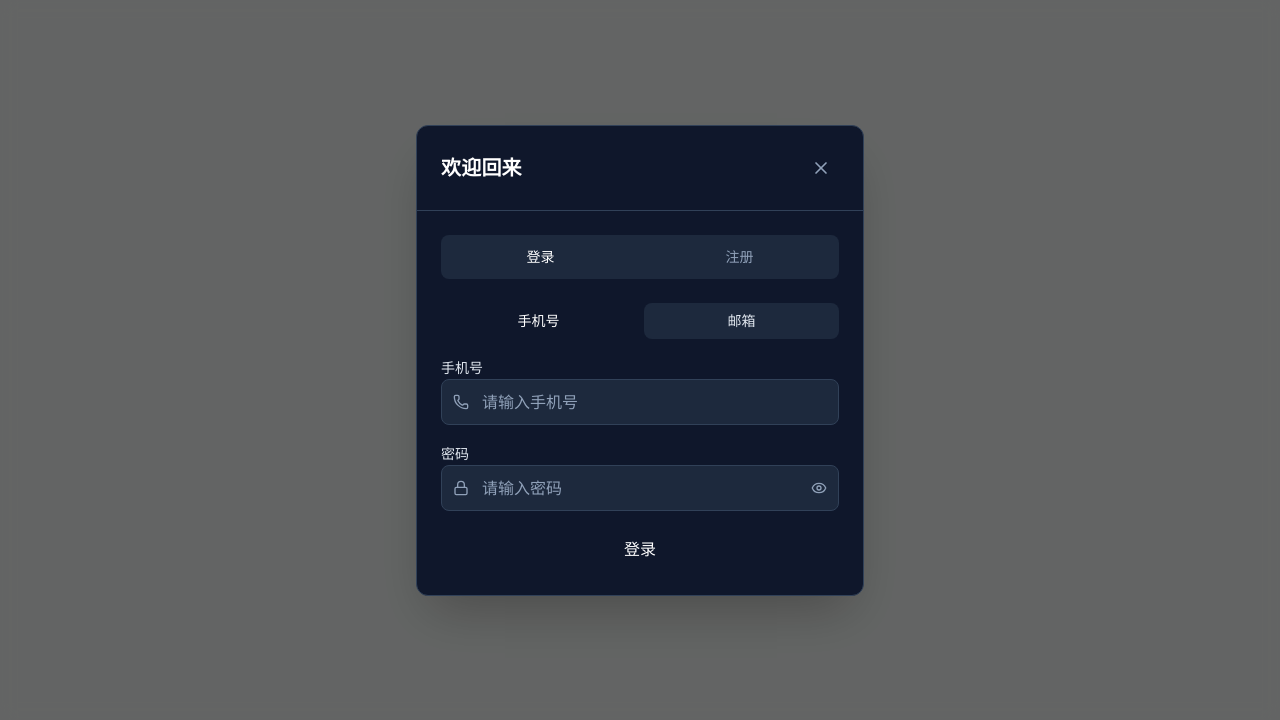
Test case: AuthModal › should show email input when email tab is clicked
# Click the "邮箱" tab (first occurrence)
Click the button "邮箱": point(742, 320) [644,302,839,338]
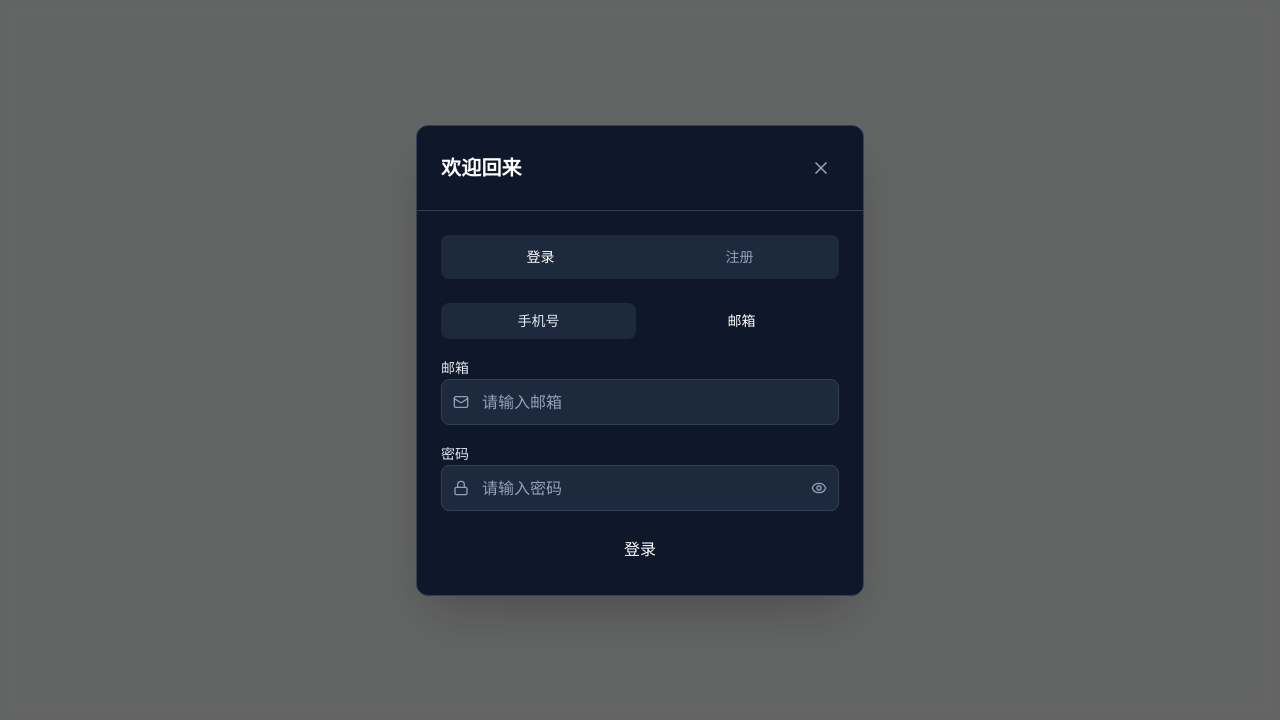
Expected: the field with placeholder "请输入邮箱" is shown, [441,378,839,424]
